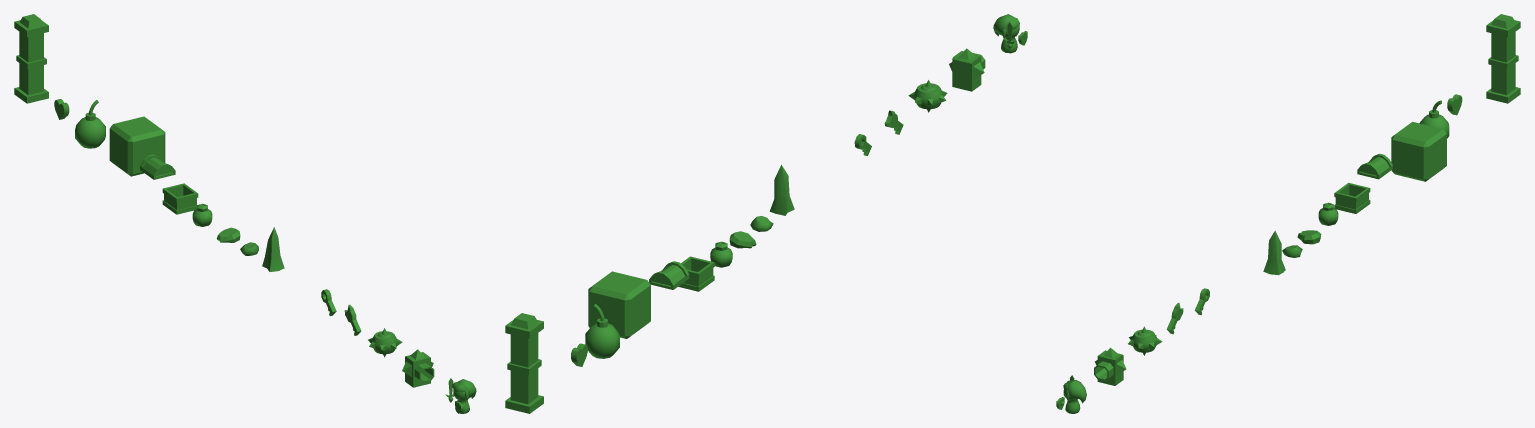
The model's file is LonkAndObjects.FBX.
3 renders of one model, left to right at view 1: azimuth 30°, elevation 25°; view 2: azimuth 150°, elevation 25°; view 3: azimuth 330°, elevation 25°, orthographic. The views are drawn at different scales.
Visible parts, largest first — view 1: ChestCap029, ChestCap032, ChestCap030, ChestCap018, ChestCap027, ChestCap028, ChestCap023, ChestCap020, ChestCap014; view 2: ChestCap029, ChestCap032, ChestCap018, ChestCap030, ChestCap027, ChestCap028, ChestCap023, ChestCap020, ChestCap014; view 3: ChestCap029, ChestCap032, ChestCap018, ChestCap027, ChestCap023, ChestCap014, ChestCap028, ChestCap020, ChestCap030.
Part boxes in pixels (x1,y1,x2,y2): ChestCap029: (109,116,165,176); ChestCap032: (14,14,48,103); ChestCap030: (75,100,105,148); ChestCap018: (402,349,434,387); ChestCap027: (162,183,198,214); ChestCap028: (140,154,175,179); ChestCap023: (262,227,284,271); ChestCap020: (368,328,402,357); ChestCap014: (452,379,476,413); ChestCap029: (588,271,650,338); ChestCap032: (505,313,543,413); ChestCap018: (949,48,985,91); ChestCap030: (585,304,619,358); ChestCap027: (678,256,714,291); ChestCap028: (649,261,689,289); ChestCap023: (769,165,794,215); ChestCap020: (908,80,947,112); ChestCap014: (993,14,1019,53); ChestCap029: (1391,121,1446,181); ChestCap032: (1486,14,1520,103); ChestCap018: (1094,347,1126,385); ChestCap027: (1334,182,1370,213); ChestCap023: (1263,230,1285,275); ChestCap014: (1063,380,1086,413); ChestCap028: (1357,153,1392,179); ChestCap020: (1128,326,1162,355); ChestCap030: (1419,100,1449,138).
Size of the model in its own units: 0.6321 by 1.01 by 9.94.
